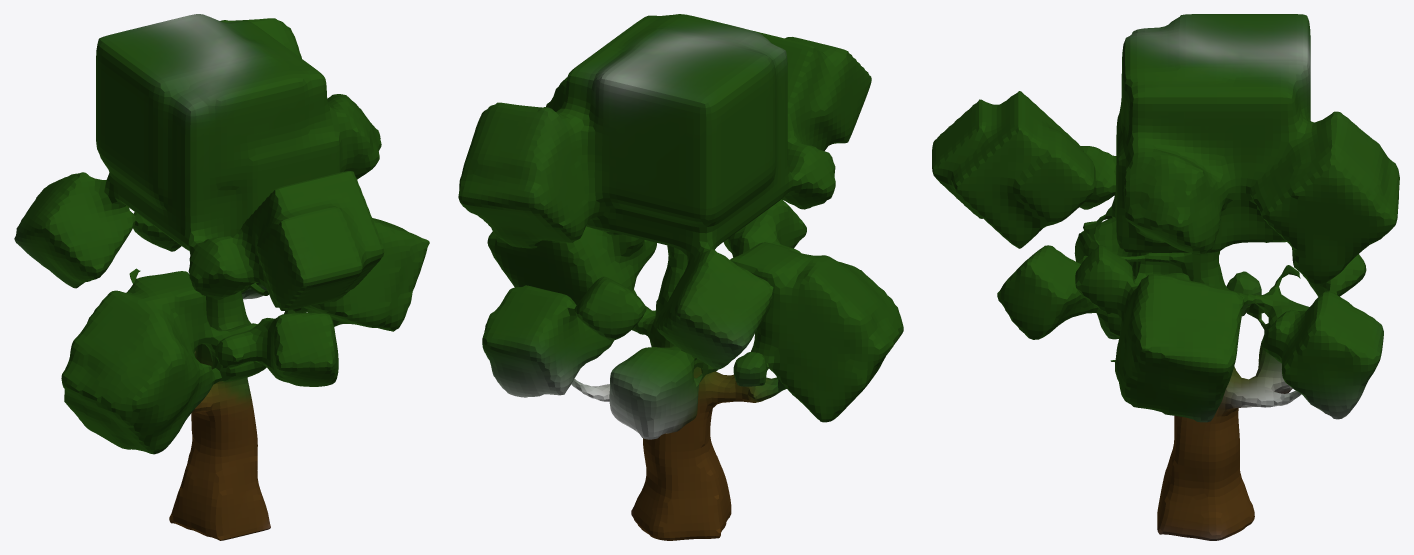
File: Boxed_1.glb
3 views of the same model, side by side, from view 1: azimuth 30°, elevation 25°; view 2: azimuth 150°, elevation 25°; view 3: azimuth 270°, elevation 25° (orthographic). The views are drawn at different scales.
Parts seen in each view (by area): view 1: Boxed_1; view 2: Boxed_1; view 3: Boxed_1.
Boxes of the visible parts, x1,y1,x2,y2 form: Boxed_1: (14,14,429,540); Boxed_1: (458,14,903,540); Boxed_1: (932,14,1399,540).
Bounding box in the file's own units: 3.63 × 4.51 × 4.03.
